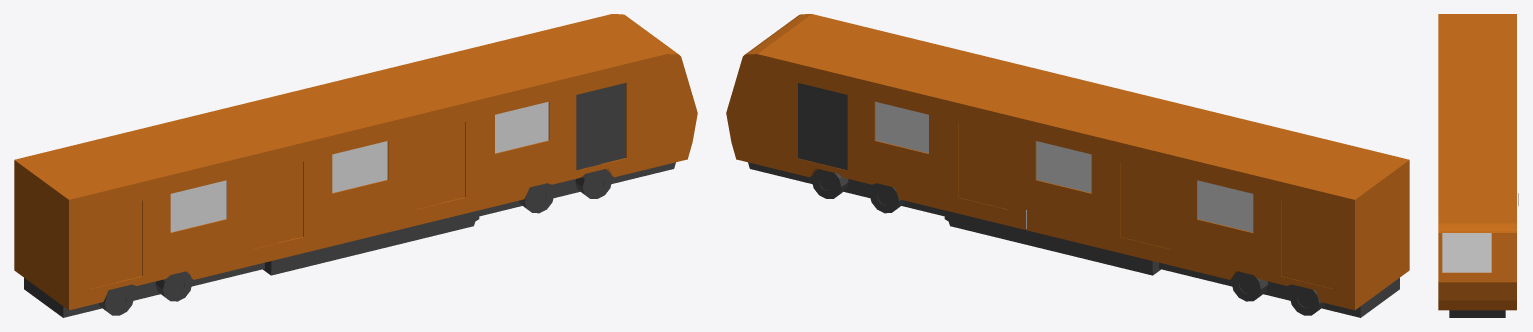
File: 3DM_VagonMetro.glb
3 renders of one model, left to right at view 1: azimuth 30°, elevation 25°; view 2: azimuth 150°, elevation 25°; view 3: azimuth 270°, elevation 25°, orthographic. The views are drawn at different scales.
Visible parts, largest first — view 1: Tren, Ventana1, Cube.003, Cylinder.004, Cube.002, Puerta8, Puerta7, Puerta4, Puerta1, Puerta3, Puerta5, Puerta2 (+1 smaller); view 2: Tren, Ventana1, Cube.003, Cylinder.004, Cube.002, Puerta7, Puerta8, Puerta1, Puerta4, Puerta6, Puerta3, Puerta5 (+1 smaller); view 3: Tren, Tren.001, Cube.002.
Part boxes in pixels (box(x1,y1,x2,y2)): Tren: box(14, 14, 697, 310); Ventana1: box(170, 101, 548, 232); Cube.003: box(263, 210, 479, 275); Cylinder.004: box(98, 169, 612, 315); Cube.002: box(24, 162, 675, 317); Puerta8: box(90, 207, 116, 288); Puerta7: box(116, 201, 142, 282); Puerta4: box(415, 128, 440, 209); Puerta1: box(576, 89, 601, 170); Puerta3: box(440, 122, 465, 202); Puerta5: box(253, 168, 277, 248); Puerta2: box(601, 83, 625, 163); Tren: box(726, 14, 1409, 310); Ventana1: box(875, 101, 1253, 232); Cube.003: box(944, 210, 1160, 275); Cylinder.004: box(811, 169, 1325, 315); Cube.002: box(748, 162, 1399, 317); Puerta7: box(1281, 201, 1307, 282); Puerta8: box(1307, 207, 1333, 288); Puerta1: box(822, 89, 847, 170); Puerta4: box(983, 128, 1008, 209); Puerta6: box(1120, 161, 1145, 242); Puerta3: box(958, 122, 983, 203); Puerta5: box(1145, 168, 1170, 248); Tren: box(1438, 14, 1516, 310); Tren.001: box(1442, 233, 1491, 272); Cube.002: box(1449, 310, 1505, 317).
Bounding box in the file's own units: 71.31 × 13.93 × 11.02.
